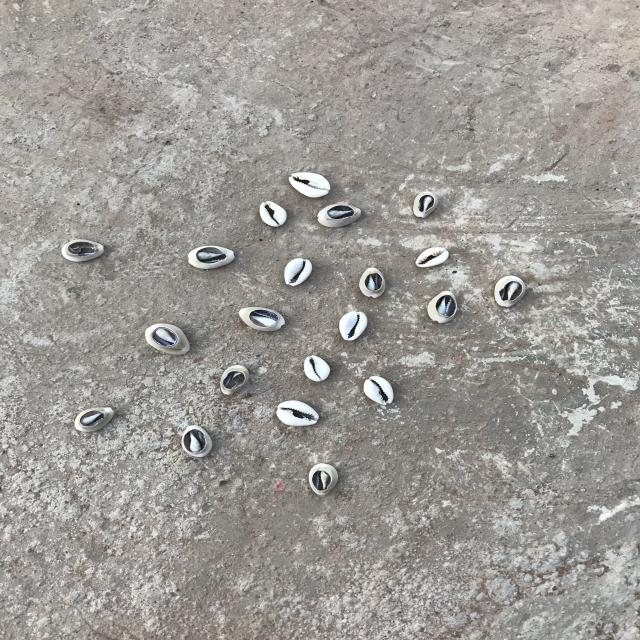facedown: (142, 322, 196, 357), (233, 304, 291, 334), (184, 243, 242, 272), (424, 290, 466, 327), (304, 462, 346, 499), (69, 405, 121, 433), (54, 238, 112, 263), (178, 423, 216, 461), (491, 274, 531, 310), (315, 202, 365, 229), (216, 363, 252, 398), (356, 266, 391, 299), (410, 189, 443, 223)
faceup: (358, 374, 408, 414), (283, 168, 336, 198), (274, 400, 322, 427), (334, 309, 370, 342), (299, 352, 335, 383), (280, 256, 314, 288), (256, 200, 292, 230), (409, 245, 454, 269)
